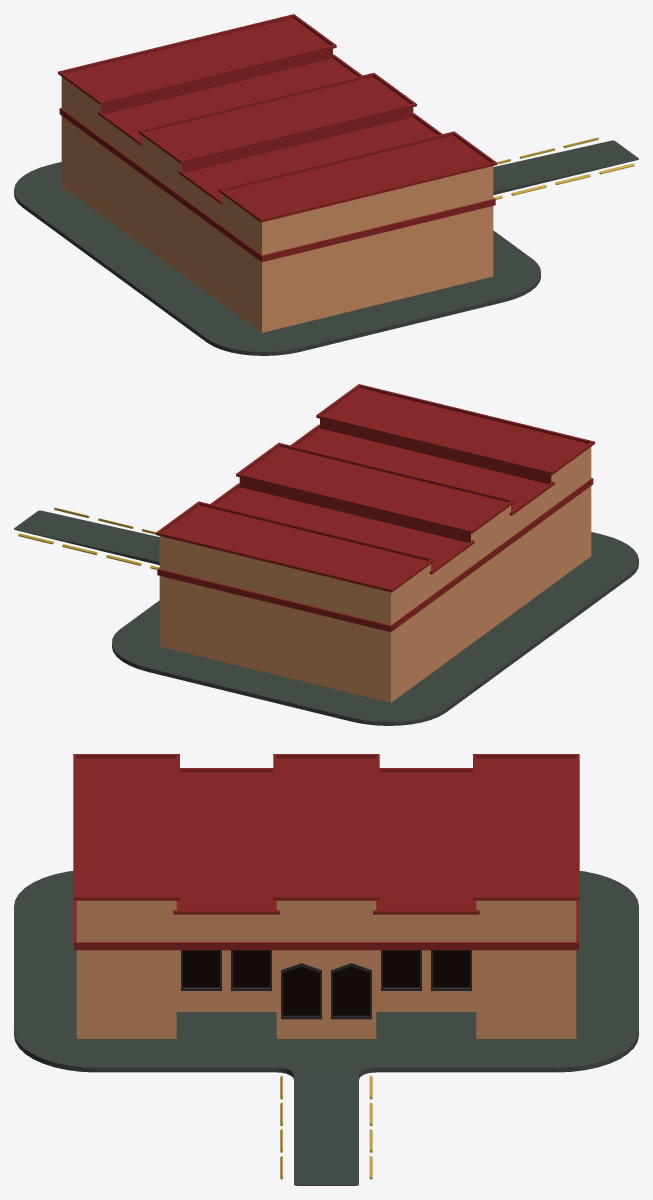
3 renders of one model, top to bottom at view 1: azimuth 30°, elevation 25°; view 2: azimuth 150°, elevation 25°; view 3: azimuth 270°, elevation 25°, orthographic. The views are drawn at different scales.
Visible parts, largest first — view 1: building_001_0, Street_1; view 2: building_001_0, Street_1; view 3: building_001_0, Street_1.
Part boxes in pixels (left/top/right/bottom): building_001_0: left=58, top=14, right=496, bottom=332; Street_1: left=14, top=137, right=638, bottom=355; building_001_0: left=156, top=384, right=594, bottom=702; Street_1: left=14, top=507, right=638, bottom=725; building_001_0: left=73, top=754, right=579, bottom=1038; Street_1: left=14, top=871, right=638, bottom=1185.
Bounding box in the file's own units: 22.14 × 4.88 × 18.75.
1 material, 1 textured.
